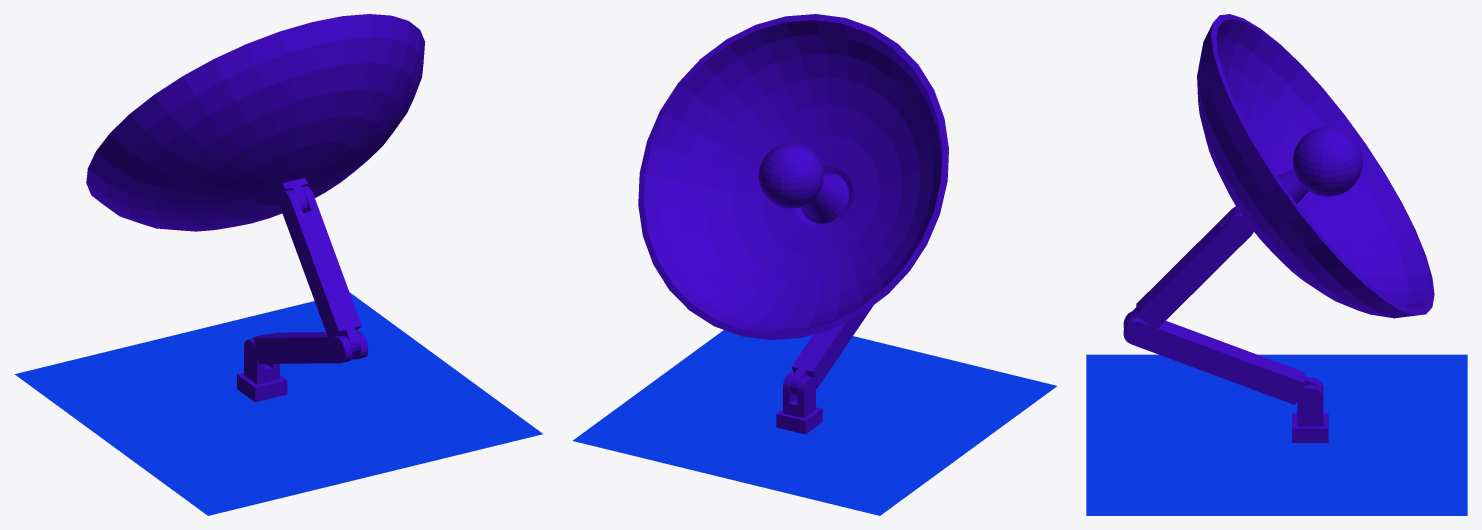
Rendered from small antenna_blue.fbx.
3 views of the same model, side by side, from view 1: azimuth 30°, elevation 25°; view 2: azimuth 150°, elevation 25°; view 3: azimuth 270°, elevation 25° (orthographic). The views are drawn at different scales.
Visible parts, largest first — view 1: Plane, Sphere, Cube.005, Cube.004, Cube.001; view 2: Sphere, Plane, Sphere.002, Cube.004, Cube.001; view 3: Plane, Sphere, Cube.004, Cube.005, Sphere.002, Cube.001.
Boxes of the visible parts, x1,y1,x2,y2 form: Plane: (14, 292, 543, 515); Sphere: (86, 14, 424, 231); Cube.005: (279, 186, 361, 355); Cube.004: (253, 331, 368, 363); Cube.001: (237, 338, 287, 402); Sphere: (638, 14, 948, 340); Plane: (572, 330, 1056, 515); Sphere.002: (758, 143, 823, 208); Cube.004: (790, 305, 873, 396); Cube.001: (776, 372, 822, 434); Plane: (1086, 354, 1467, 515); Sphere: (1197, 14, 1434, 318); Cube.004: (1123, 311, 1322, 404); Cube.005: (1125, 206, 1253, 328); Sphere.002: (1292, 126, 1362, 196); Cube.001: (1292, 377, 1328, 442).
Bounding box in the file's own units: 500 × 585 × 500.
